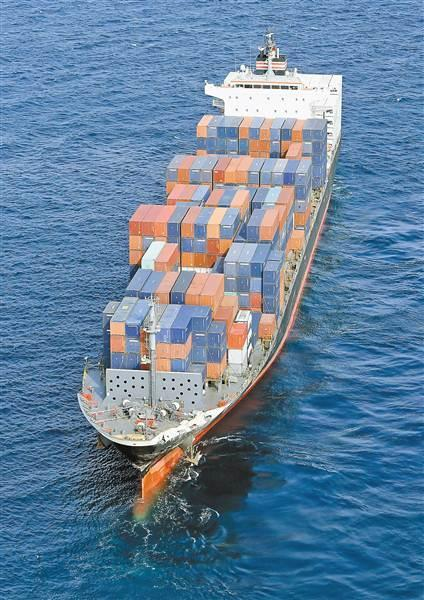Cargoship: (74, 24, 348, 500)
